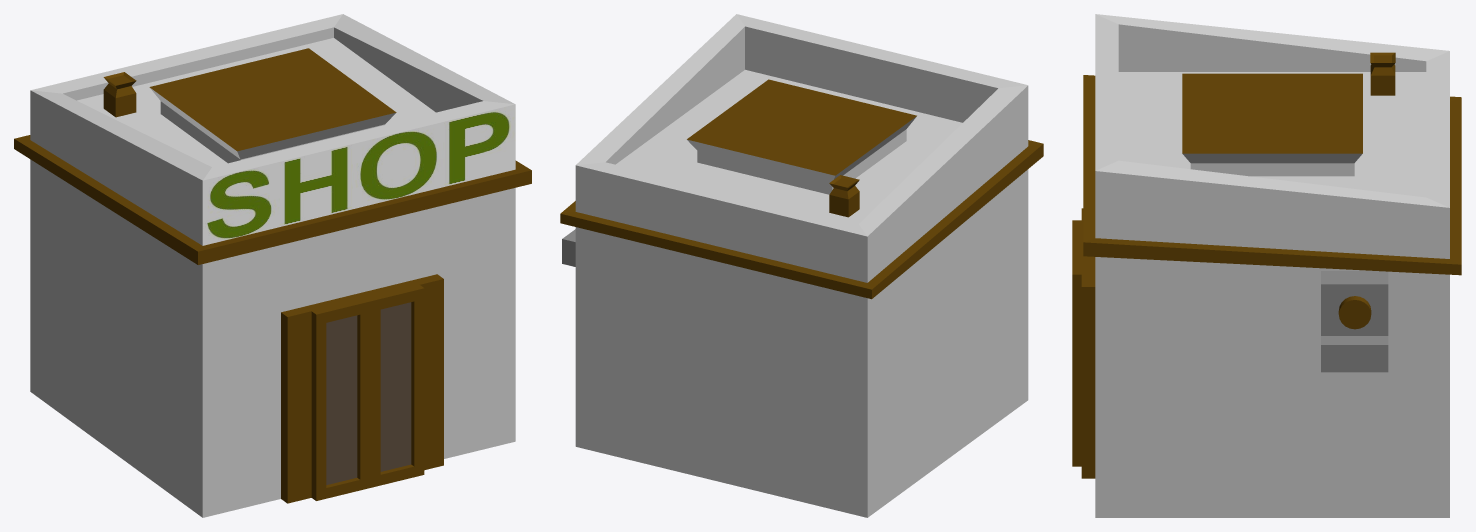
File: shop1.fbx
The picture shows the model from 3 angles, left to right: view 1: azimuth 30°, elevation 25°; view 2: azimuth 150°, elevation 25°; view 3: azimuth 270°, elevation 25°; orthographic projection. The views are drawn at different scales.
Parts seen in each view (by area): view 1: building, flue; view 2: building, flue; view 3: building, stock, flue, fan.
Part boxes in pixels (<box>): building: <box>14,14,531,517</box>; flue: <box>103,72,136,117</box>; building: <box>560,14,1043,517</box>; flue: <box>829,175,859,217</box>; building: <box>1072,14,1461,517</box>; stock: <box>1321,271,1388,372</box>; flue: <box>1370,52,1395,95</box>; fan: <box>1338,296,1371,329</box>.
Bounding box in the file's own units: 3.6 × 3.16 × 3.22.
Materials: 5 (1 with a texture image).
